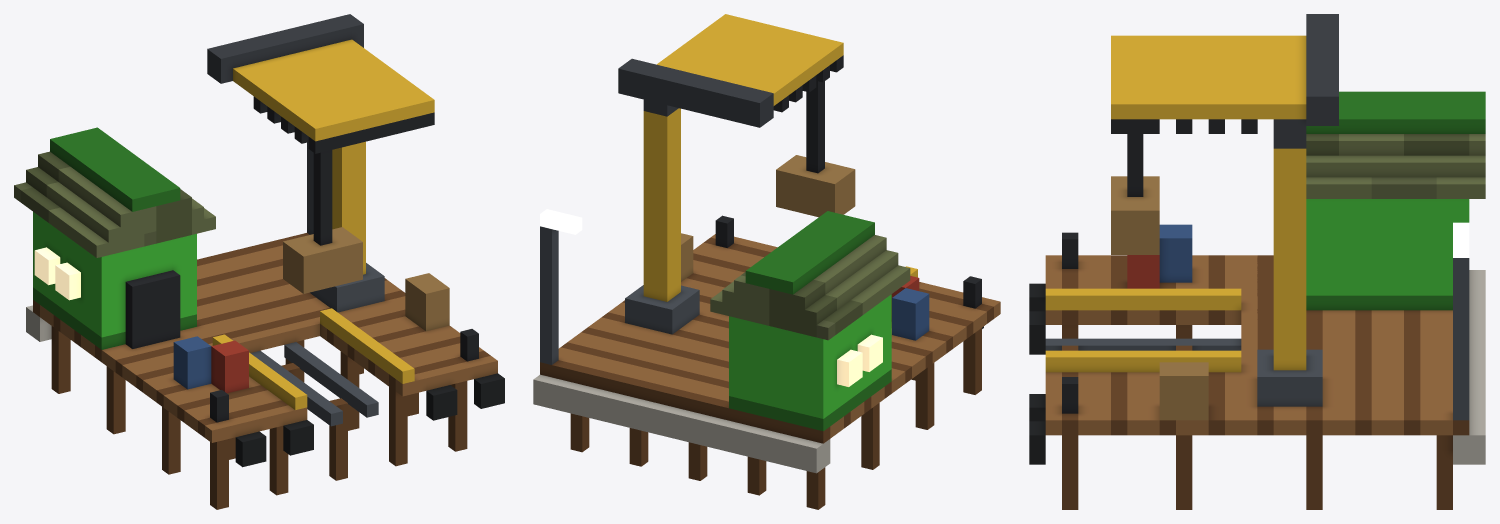
The model's file is cm_dock_3.glb.
The picture shows the model from 3 angles, left to right: view 1: azimuth 30°, elevation 25°; view 2: azimuth 150°, elevation 25°; view 3: azimuth 270°, elevation 25°; orthographic projection. The views are drawn at different scales.
Parts seen in each view (by area): view 1: cm_dock_3_body; view 2: cm_dock_3_body; view 3: cm_dock_3_body.
Part boxes in pixels (x1=…): cm_dock_3_body: x1=14, y1=14, x2=504, y2=509; cm_dock_3_body: x1=533, y1=14, x2=1000, y2=509; cm_dock_3_body: x1=1029, y1=14, x2=1485, y2=509.
Bounding box in the file's own units: 1.56 × 1.75 × 1.75.
Materials: 1 (1 with a texture image).
